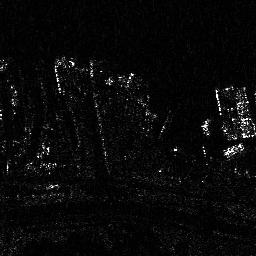ship: (222, 142, 245, 158)
